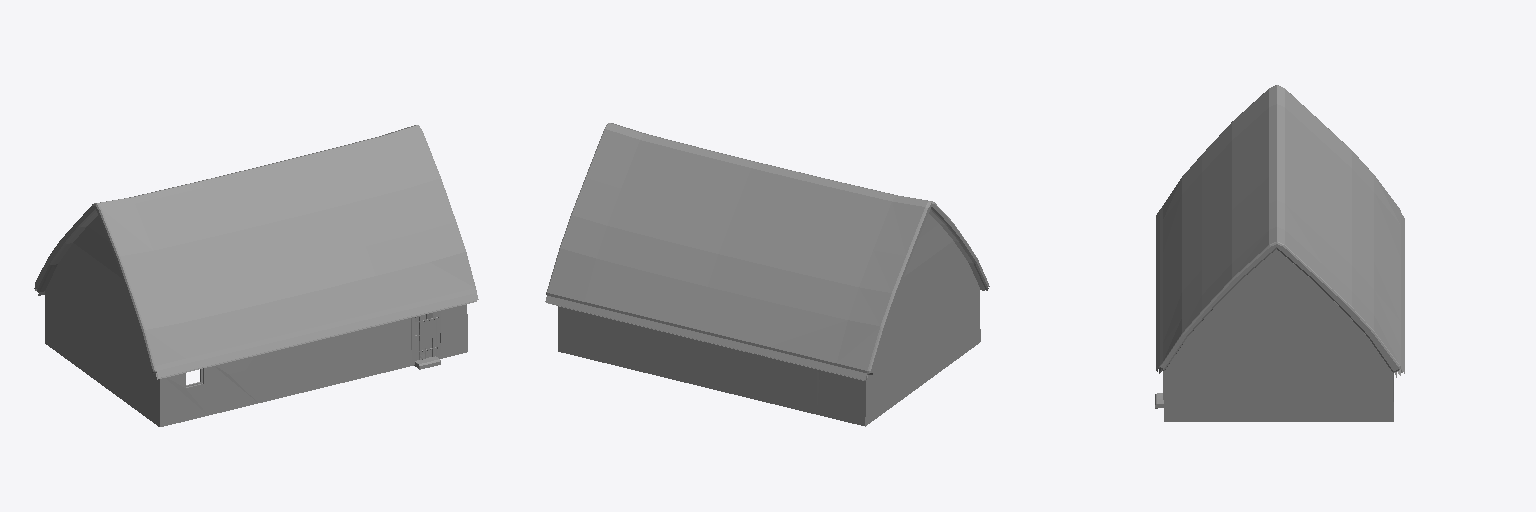
Rendered from storage.obj.
The picture shows the model from 3 angles: view 1: azimuth 30°, elevation 25°; view 2: azimuth 150°, elevation 25°; view 3: azimuth 270°, elevation 25°; orthographic projection.
Parts seen in each view (by area): view 1: object__4, object__2; view 2: object__4, object__2; view 3: object__4, object__2.
Part boxes in pixels (bbox=[...]): object__4: bbox=[34, 125, 478, 379]; object__2: bbox=[45, 216, 467, 426]; object__4: bbox=[545, 123, 989, 381]; object__2: bbox=[558, 214, 980, 426]; object__4: bbox=[1156, 85, 1404, 377]; object__2: bbox=[1155, 249, 1393, 421].
Bounding box in the file's own units: 9.51 × 5.22 × 6.34.